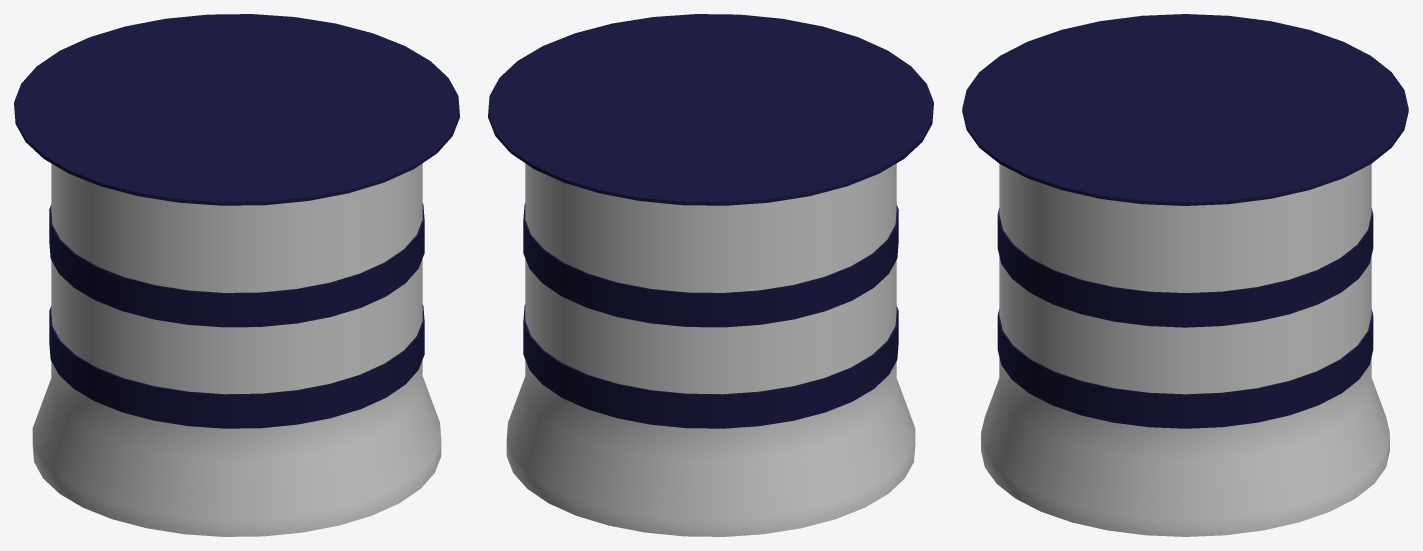
File: tonneau.fbx
The picture shows the model from 3 angles, left to right: view 1: azimuth 30°, elevation 25°; view 2: azimuth 150°, elevation 25°; view 3: azimuth 270°, elevation 25°; orthographic projection.
Parts seen in each view (by area): view 1: tonneau; view 2: tonneau; view 3: tonneau.
Boxes of the visible parts, x1=… form: tonneau: x1=14, y1=14, x2=459, y2=536; tonneau: x1=488, y1=14, x2=933, y2=536; tonneau: x1=962, y1=14, x2=1408, y2=536.
Size of the model in its own units: 240 by 203 by 240.
